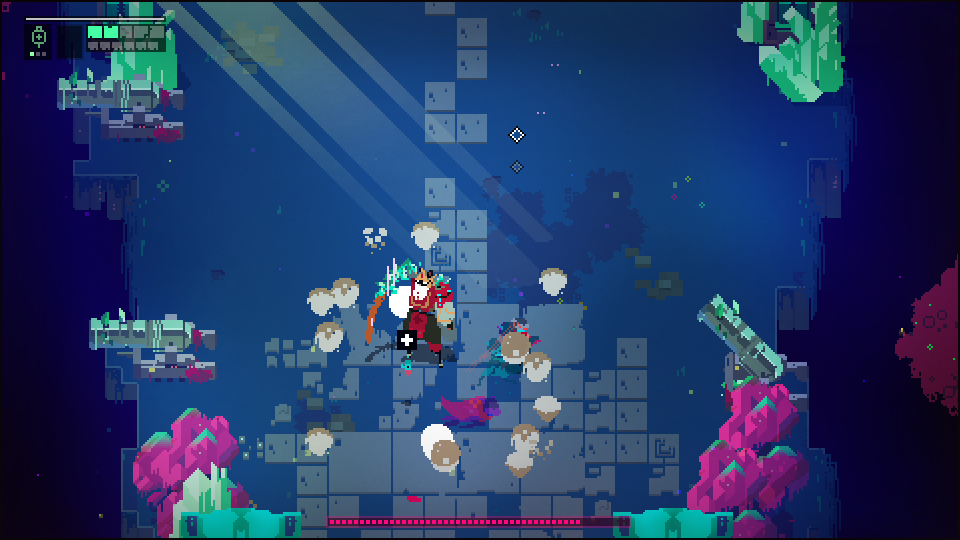hanged_man: (357, 256, 463, 357)
